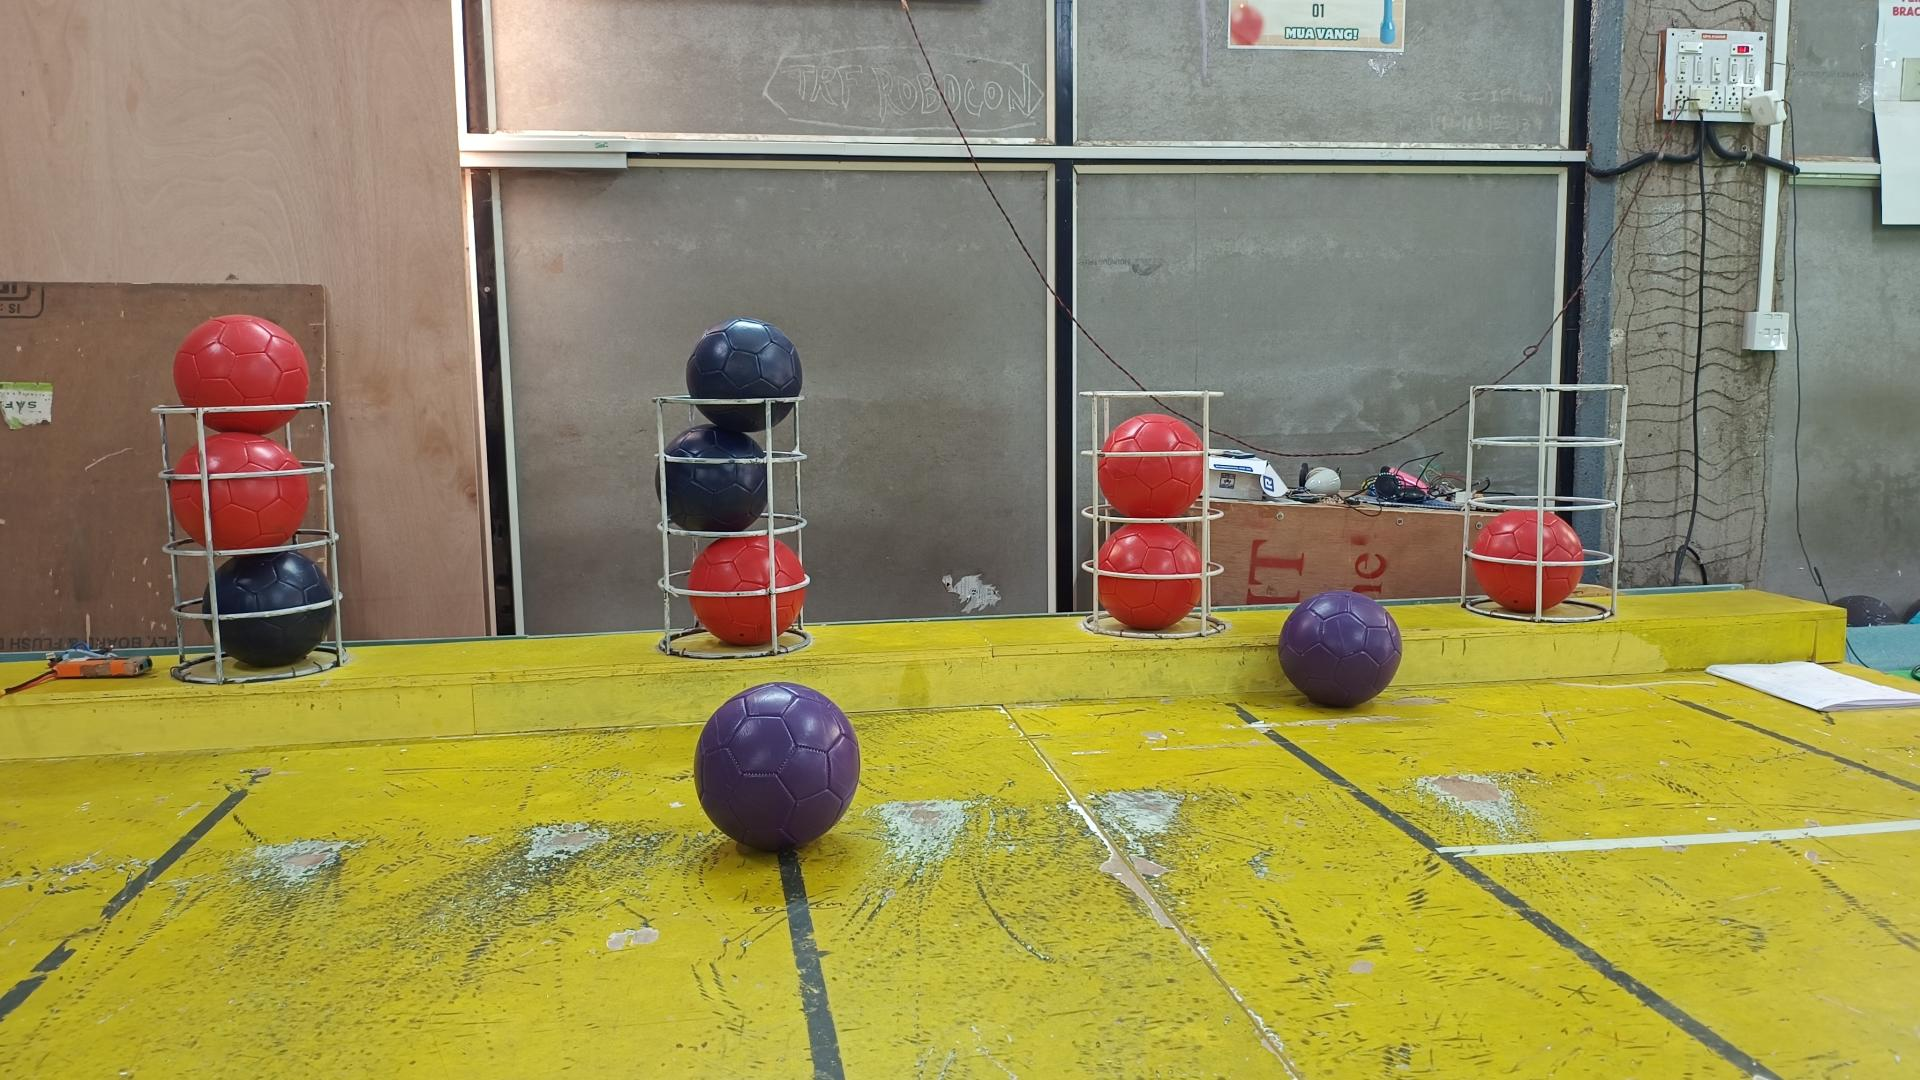dhoka: (203, 551, 334, 667), (686, 319, 806, 431), (657, 423, 769, 533)
laale: (169, 431, 311, 551), (177, 315, 311, 435), (690, 537, 810, 645), (1474, 510, 1586, 615), (1098, 525, 1204, 630), (1098, 413, 1204, 517)
